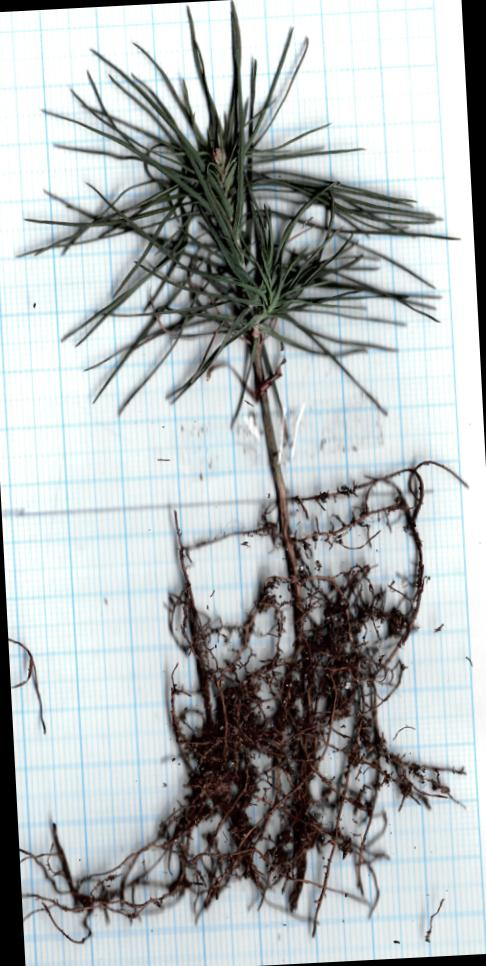flower: (33, 0, 449, 410)
root: (35, 463, 451, 936)
stem: (253, 345, 285, 500)
